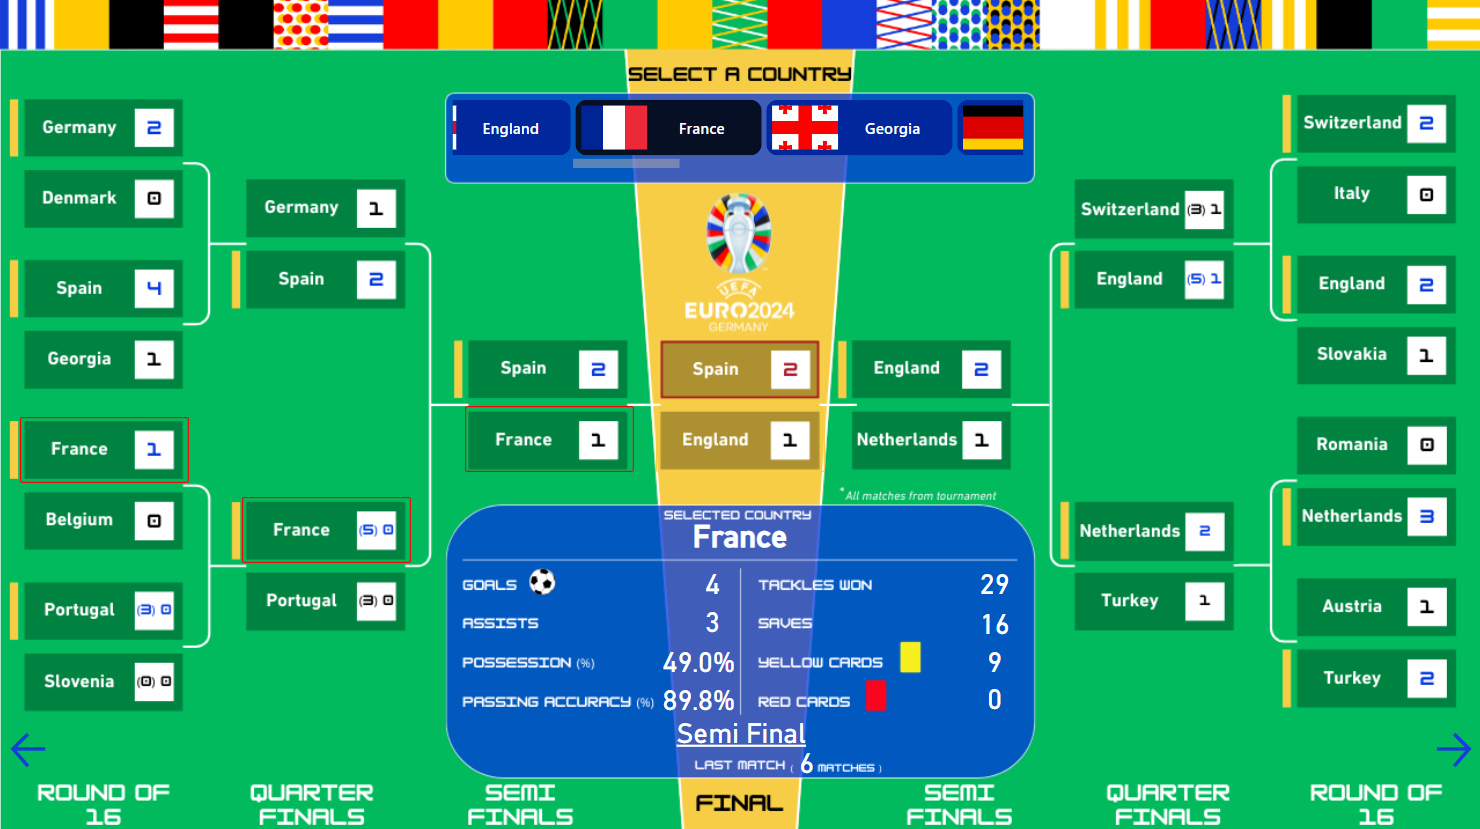

This screenshot's page, from the dashboard's own definition file:
{"tool":"powerbi","page":{"name":"Tree","canvas":[1280,720],"ordinal":2},"visuals":[{"type":"advancedSlicerVisual","fields":{"Values":["Countries 16.Country"]},"box":[386,83,503,71],"z":0},{"type":"card","fields":{"Values":["Countries 16.SelectedCountry16"]},"box":[515.5,439.6,249,48.6],"z":1000},{"type":"card","fields":{"Values":["Countries 16.Spain"]},"box":[209.1,214,145.9,57.4],"z":2000},{"type":"card","fields":{"Values":["Countries 16.Spain"]},"box":[17.5,221.8,145.9,57.4],"z":3000},{"type":"card","fields":{"Values":["Countries 16.Spain"]},"box":[401.7,291.8,145.9,57.4],"z":4000},{"type":"card","fields":{"Values":["Countries 16.Spain"]},"box":[1117.6,497,145.9,57.4],"z":5000},{"type":"card","fields":{"Values":["Countries 16.Spain"]},"box":[17.5,423.1,145.9,57.4],"z":6000},{"type":"card","fields":{"Values":["Countries 16.Spain"]},"box":[17.5,144,145.9,57.4],"z":7000},{"type":"card","fields":{"Values":["Countries 16.Spain"]},"box":[733.4,291.8,145.9,57.4],"z":8000},{"type":"card","fields":{"Values":["Countries 16.Spain"]},"box":[926.9,214,145.9,57.4],"z":9000},{"type":"card","fields":{"Values":["Countries 16.Spain"]},"box":[1118.5,217.9,145.9,57.4],"z":10000},{"type":"card","fields":{"Values":["Countries 16.Spain"]},"box":[17.5,361.8,145.9,57.4],"z":11000},{"type":"card","fields":{"Values":["Countries 16.Spain"]},"box":[209.1,430.9,145.9,57.4],"z":12000},{"type":"card","fields":{"Values":["Countries 16.Spain"]},"box":[401.7,353.1,145.9,57.4],"z":13000},{"type":"card","fields":{"Values":["Countries 16.Spain"]},"box":[17.5,284,145.9,57.4],"z":14000},{"type":"card","fields":{"Values":["Countries 16.Spain"]},"box":[17.5,82.7,145.9,57.4],"z":15000},{"type":"card","fields":{"Values":["Countries 16.Spain"]},"box":[209.1,152.7,145.9,57.4],"z":16000},{"type":"card","fields":{"Values":["Countries 16.Spain"]},"box":[1117.6,141,145.9,57.4],"z":17000},{"type":"card","fields":{"Values":["Countries 16.Spain"]},"box":[1117.6,419.2,145.9,57.4],"z":18000},{"type":"card","fields":{"Values":["Countries 16.Spain"]},"box":[926,431.9,145.9,57.4],"z":19000},{"type":"card","fields":{"Values":["Countries 16.Spain"]},"box":[733.4,353.1,145.9,57.4],"z":20000},{"type":"card","fields":{"Values":["Countries 16.Spain"]},"box":[209.1,493.1,145.9,57.4],"z":21000},{"type":"card","fields":{"Values":["Countries 16.Spain"]},"box":[17.5,500.9,145.9,57.4],"z":22000},{"type":"card","fields":{"Values":["Countries 16.Spain"]},"box":[1117.6,357.9,145.9,57.4],"z":23000},{"type":"card","fields":{"Values":["Countries 16.Spain"]},"box":[1117.6,279.1,145.9,57.4],"z":24000},{"type":"card","fields":{"Values":["Countries 16.Spain"]},"box":[17.5,562.2,145.9,57.4],"z":25000},{"type":"card","fields":{"Values":["Countries 16.Spain"]},"box":[1117.6,79.8,145.9,57.4],"z":26000},{"type":"card","fields":{"Values":["Countries 16.Spain"]},"box":[926,152.7,145.9,57.4],"z":27000},{"type":"card","fields":{"Values":["Countries 16.Spain"]},"box":[925,493.1,145.9,57.4],"z":28000},{"type":"card","fields":{"Values":["Countries 16.Spain"]},"box":[1118.5,558.3,145.9,57.4],"z":29000},{"type":"card","fields":{"Values":["Countries 16.All_Goals"]},"box":[596.4,487.3,39.1,36.4],"z":30000},{"type":"card","fields":{"Values":["Countries 16.AllAssists"]},"box":[596.4,520.9,39.1,35.5],"z":31000},{"type":"card","fields":{"Values":["Countries 16.AvgPossession"]},"box":[565,555,77,37],"z":32000},{"type":"card","fields":{"Values":["Countries 16.AvgPassingAccuracy"]},"box":[565,588,77,36],"z":33000},{"type":"card","fields":{"Values":["Countries 16.AllTacklesWon"]},"box":[840,487.3,39.1,36.4],"z":34000},{"type":"card","fields":{"Values":["Countries 16.AllSaves"]},"box":[840,521.8,39.1,36.4],"z":35000},{"type":"card","fields":{"Values":["Countries 16.AllYellowCards"]},"box":[840,555,39,36],"z":36000},{"type":"card","fields":{"Values":["Countries 16.AllRedCards"]},"box":[840,587,39,36],"z":37000},{"type":"card","fields":{"Values":["Countries 16.AllMatches"]},"box":[678,642,39,36],"z":38000},{"type":"card","fields":{"Values":["Countries 16.LastMatch"]},"box":[565,616,151,36],"z":39000},{"type":"card","fields":{"Values":["Countries 16.Spain"]},"box":[567.1,353.1,145.9,57.4],"z":40000},{"type":"actionButton","box":[1236.2,630.3,43.8,39.9],"z":41000},{"type":"actionButton","box":[4.9,630.3,41.8,39.9],"z":42000}]}

Visuals, with their boxes in screenshot pixels (x1, y1, x2, y2), scaled from the page's 1280x720 canvas onto the 1480x829 screenshot:
advancedSlicerVisual - Countries 16.Country: Rect(446, 96, 1028, 177)
card - Countries 16.SelectedCountry16: Rect(596, 506, 884, 562)
card - Countries 16.Spain: Rect(242, 246, 410, 312)
card - Countries 16.Spain: Rect(20, 255, 189, 321)
card - Countries 16.Spain: Rect(464, 336, 633, 402)
card - Countries 16.Spain: Rect(1292, 572, 1461, 638)
card - Countries 16.Spain: Rect(20, 487, 189, 553)
card - Countries 16.Spain: Rect(20, 166, 189, 232)
card - Countries 16.Spain: Rect(848, 336, 1017, 402)
card - Countries 16.Spain: Rect(1072, 246, 1240, 312)
card - Countries 16.Spain: Rect(1293, 251, 1462, 317)
card - Countries 16.Spain: Rect(20, 417, 189, 483)
card - Countries 16.Spain: Rect(242, 496, 410, 562)
card - Countries 16.Spain: Rect(464, 407, 633, 473)
card - Countries 16.Spain: Rect(20, 327, 189, 393)
card - Countries 16.Spain: Rect(20, 95, 189, 161)
card - Countries 16.Spain: Rect(242, 176, 410, 242)
card - Countries 16.Spain: Rect(1292, 162, 1461, 228)
card - Countries 16.Spain: Rect(1292, 483, 1461, 549)
card - Countries 16.Spain: Rect(1071, 497, 1239, 563)
card - Countries 16.Spain: Rect(848, 407, 1017, 473)
card - Countries 16.Spain: Rect(242, 568, 410, 634)
card - Countries 16.Spain: Rect(20, 577, 189, 643)
card - Countries 16.Spain: Rect(1292, 412, 1461, 478)
card - Countries 16.Spain: Rect(1292, 321, 1461, 387)
card - Countries 16.Spain: Rect(20, 647, 189, 713)
card - Countries 16.Spain: Rect(1292, 92, 1461, 158)
card - Countries 16.Spain: Rect(1071, 176, 1239, 242)
card - Countries 16.Spain: Rect(1070, 568, 1238, 634)
card - Countries 16.Spain: Rect(1293, 643, 1462, 709)
card - Countries 16.All_Goals: Rect(690, 561, 735, 603)
card - Countries 16.AllAssists: Rect(690, 600, 735, 641)
card - Countries 16.AvgPossession: Rect(653, 639, 742, 682)
card - Countries 16.AvgPassingAccuracy: Rect(653, 677, 742, 718)
card - Countries 16.AllTacklesWon: Rect(971, 561, 1016, 603)
card - Countries 16.AllSaves: Rect(971, 601, 1016, 643)
card - Countries 16.AllYellowCards: Rect(971, 639, 1016, 680)
card - Countries 16.AllRedCards: Rect(971, 676, 1016, 717)
card - Countries 16.AllMatches: Rect(784, 739, 829, 781)
card - Countries 16.LastMatch: Rect(653, 709, 828, 751)
card - Countries 16.Spain: Rect(656, 407, 824, 473)
actionButton: Rect(1429, 726, 1479, 772)
actionButton: Rect(6, 726, 54, 772)
